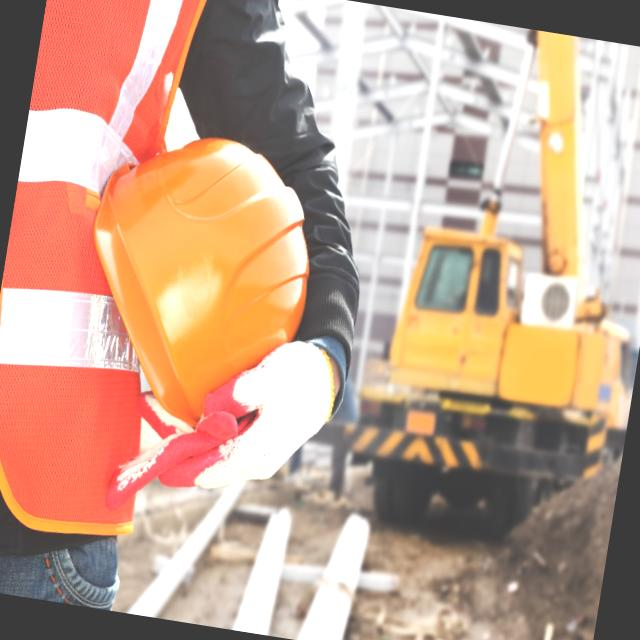helmet: (62, 93, 346, 404)
vest: (0, 0, 219, 525)
